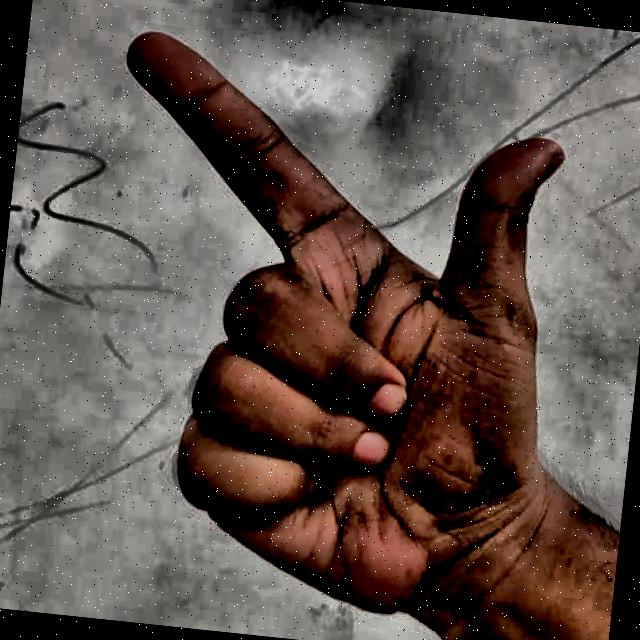Tha: (47, 3, 606, 640)
